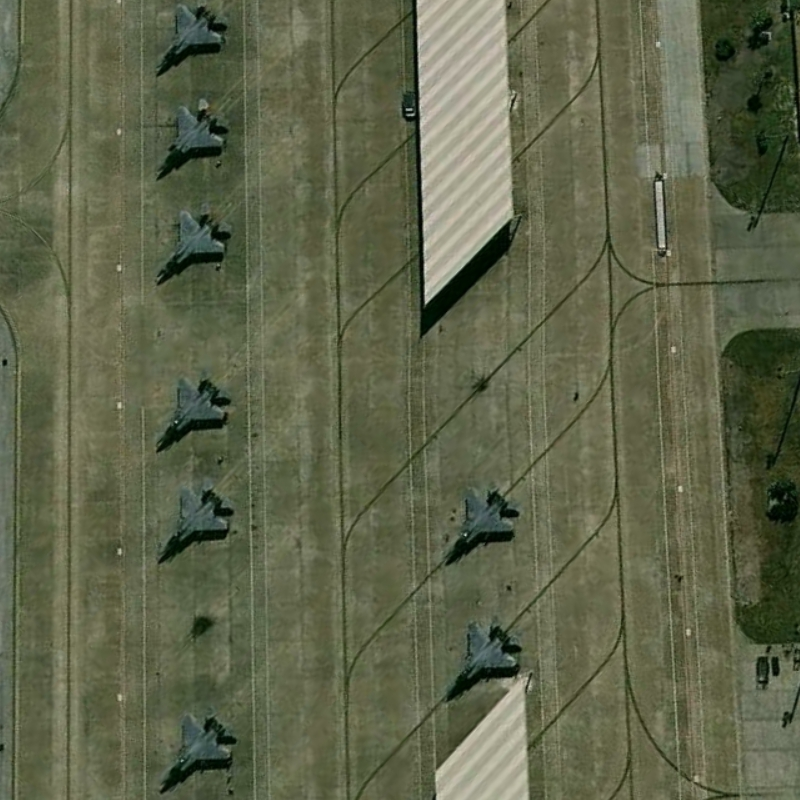A13: (152, 470, 239, 561), (442, 612, 526, 705), (154, 700, 240, 789), (436, 481, 526, 566), (152, 362, 238, 447), (152, 95, 233, 184), (152, 200, 236, 283), (149, 1, 231, 75)
